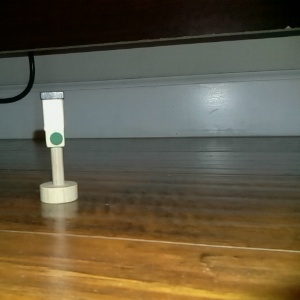traffic light green: (36, 89, 80, 205)
